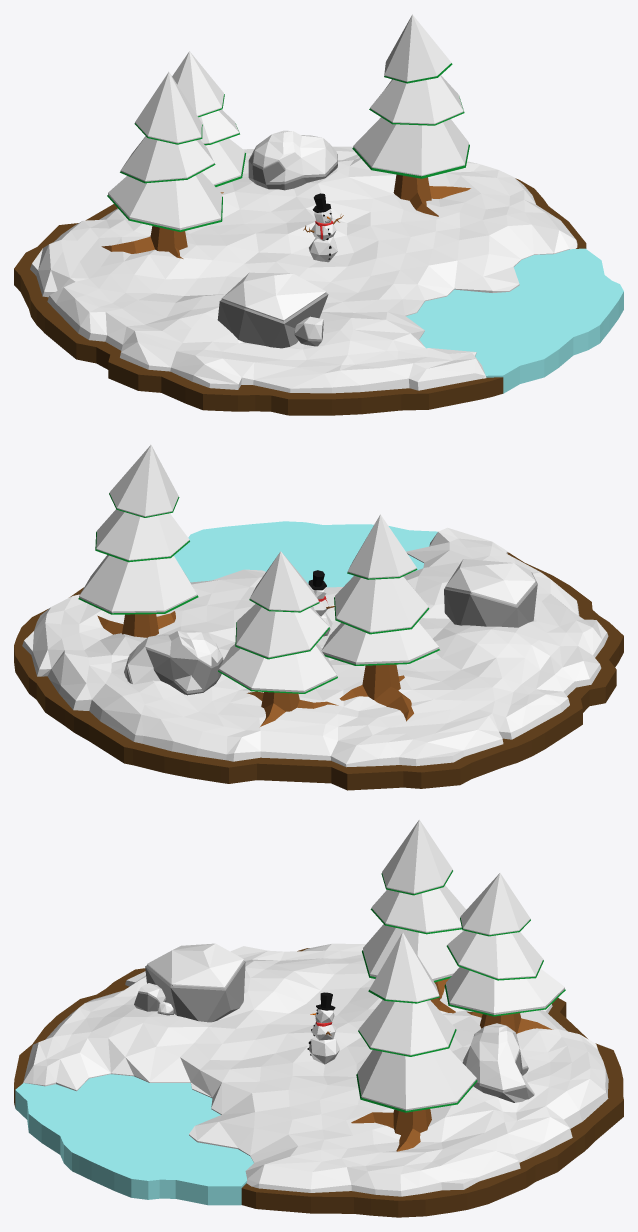
File: snowed.glb
3 views of the same model, one above another, from view 1: azimuth 30°, elevation 25°; view 2: azimuth 150°, elevation 25°; view 3: azimuth 270°, elevation 25° (orthographic). The views are drawn at different scales.
Parts seen in each view (by area): view 1: dirt001_01 - Default_0, dirt001_09 - Default_0, dirt001_06 - Default_0, Cylinder003_01 - Default_0, Cylinder001_01 - Default_0, Cylinder002_01 - Default_0, GeoSphere006_01 - Default_0, GeoSphere009_01 - Default_0, GeoSphere001_08 - Default_0, Cylinder003_05 - Default_0, Cylinder001_05 - Default_0, GeoSphere002_08 - Default_0 (+3 smaller); view 2: dirt001_01 - Default_0, dirt001_06 - Default_0, Cylinder003_01 - Default_0, Cylinder001_01 - Default_0, Cylinder002_01 - Default_0, dirt001_09 - Default_0, GeoSphere009_01 - Default_0, GeoSphere006_01 - Default_0, GeoSphere001_08 - Default_0, GeoSphere002_08 - Default_0, Cylinder001_05 - Default_0, Cylinder003_05 - Default_0 (+4 smaller); view 3: dirt001_01 - Default_0, dirt001_09 - Default_0, Cylinder003_01 - Default_0, dirt001_06 - Default_0, Cylinder002_01 - Default_0, Cylinder001_01 - Default_0, GeoSphere009_01 - Default_0, GeoSphere006_01 - Default_0, GeoSphere001_08 - Default_0, Cylinder003_05 - Default_0, snow man_01 - Default_0, Cylinder002_05 - Default_0 (+3 smaller).
Part boxes in pixels (x1,y1,x2,y2): dirt001_01 - Default_0: (30, 146, 577, 393); dirt001_09 - Default_0: (406, 248, 623, 393); dirt001_06 - Default_0: (14, 178, 586, 415); Cylinder003_01 - Default_0: (353, 14, 468, 176); Cylinder001_01 - Default_0: (108, 72, 221, 230); Cylinder002_01 - Default_0: (172, 51, 244, 185); GeoSphere006_01 - Default_0: (221, 272, 326, 321); GeoSphere009_01 - Default_0: (249, 130, 337, 181); GeoSphere001_08 - Default_0: (217, 293, 328, 348); Cylinder003_05 - Default_0: (393, 174, 470, 216); Cylinder001_05 - Default_0: (101, 226, 187, 258); GeoSphere002_08 - Default_0: (248, 153, 337, 190); dirt001_01 - Default_0: (22, 527, 608, 767); dirt001_06 - Default_0: (14, 552, 623, 790); Cylinder003_01 - Default_0: (79, 445, 197, 613); Cylinder001_01 - Default_0: (321, 514, 438, 664); Cylinder002_01 - Default_0: (219, 551, 336, 692); dirt001_09 - Default_0: (174, 521, 437, 587); GeoSphere009_01 - Default_0: (127, 630, 222, 691); GeoSphere006_01 - Default_0: (445, 559, 535, 605); GeoSphere001_08 - Default_0: (444, 572, 537, 627); GeoSphere002_08 - Default_0: (124, 649, 223, 695); Cylinder001_05 - Default_0: (339, 664, 413, 721); Cylinder003_05 - Default_0: (97, 611, 175, 637); dirt001_01 - Default_0: (22, 943, 608, 1196); dirt001_09 - Default_0: (15, 1074, 253, 1205); Cylinder003_01 - Default_0: (357, 932, 476, 1110); dirt001_06 - Default_0: (14, 948, 623, 1217); Cylinder002_01 - Default_0: (446, 873, 564, 1014); Cylinder001_01 - Default_0: (363, 819, 466, 980); GeoSphere009_01 - Default_0: (463, 1023, 534, 1094); GeoSphere006_01 - Default_0: (147, 943, 243, 988); GeoSphere001_08 - Default_0: (145, 961, 245, 1022); Cylinder003_05 - Default_0: (351, 1109, 431, 1151); snow man_01 - Default_0: (308, 1009, 339, 1064); Cylinder002_05 - Default_0: (467, 1011, 552, 1033).
Size of the model in its own units: 838 by 349 by 855.
